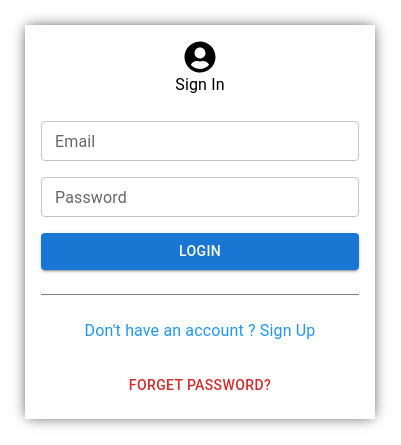
Test: Login › form toggle(true) sign in form to forget password form
Click the button "forget password?". click: (200,385)
box: top-left (121, 366), bottom-right (279, 403)
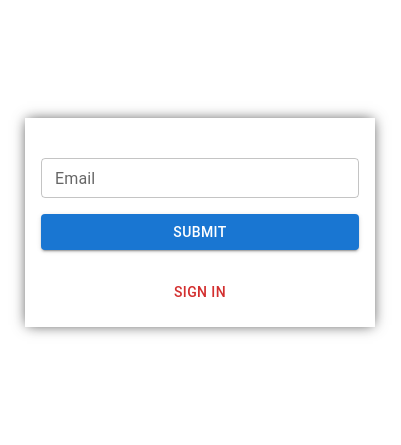
Now the button "sign in" is shown, box top-left (166, 274), bottom-right (234, 310)
